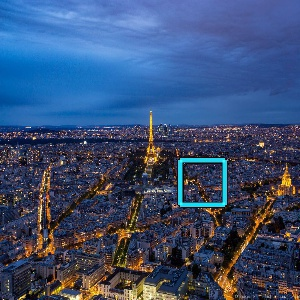square: (176, 156, 228, 208)
